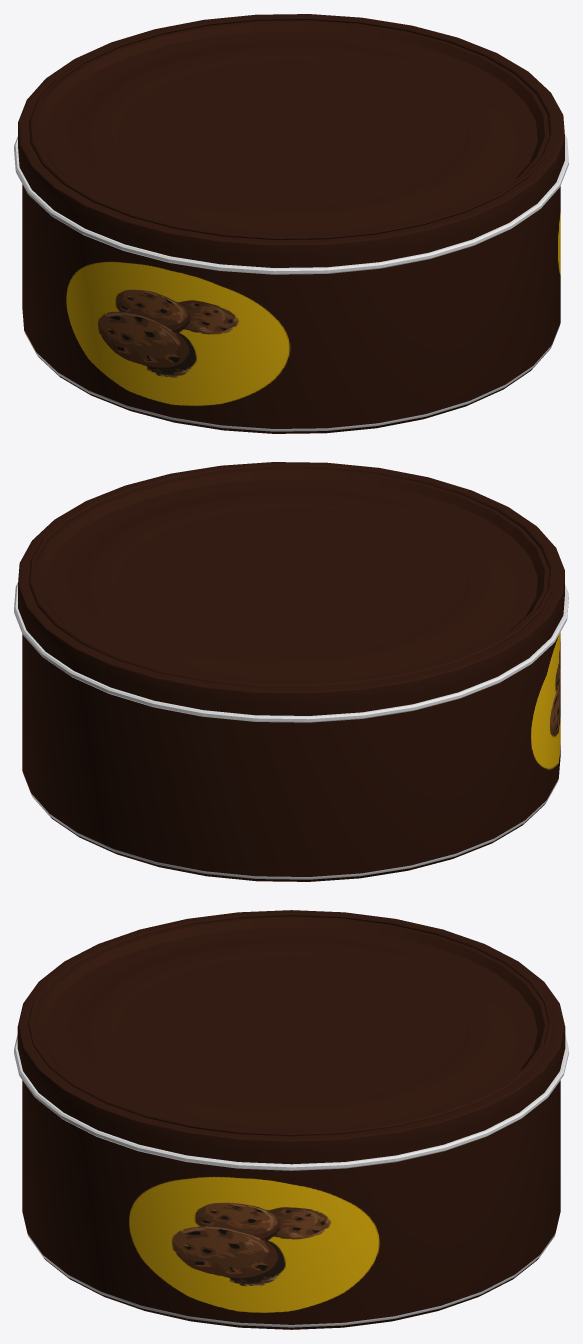
The model's file is madstore_cookies.fbx.
3 renders of one model, top to bottom at view 1: azimuth 30°, elevation 25°; view 2: azimuth 150°, elevation 25°; view 3: azimuth 270°, elevation 25°, orthographic.
Visible parts, largest first — view 1: Circle; view 2: Circle; view 3: Circle.
Boxes of the visible parts, x1=… form: Circle: x1=14, y1=14, x2=568, y2=433; Circle: x1=14, y1=462, x2=568, y2=881; Circle: x1=14, y1=910, x2=568, y2=1329.
Bounding box in the file's own units: 209 × 81.62 × 209.
2 materials, 1 textured.
